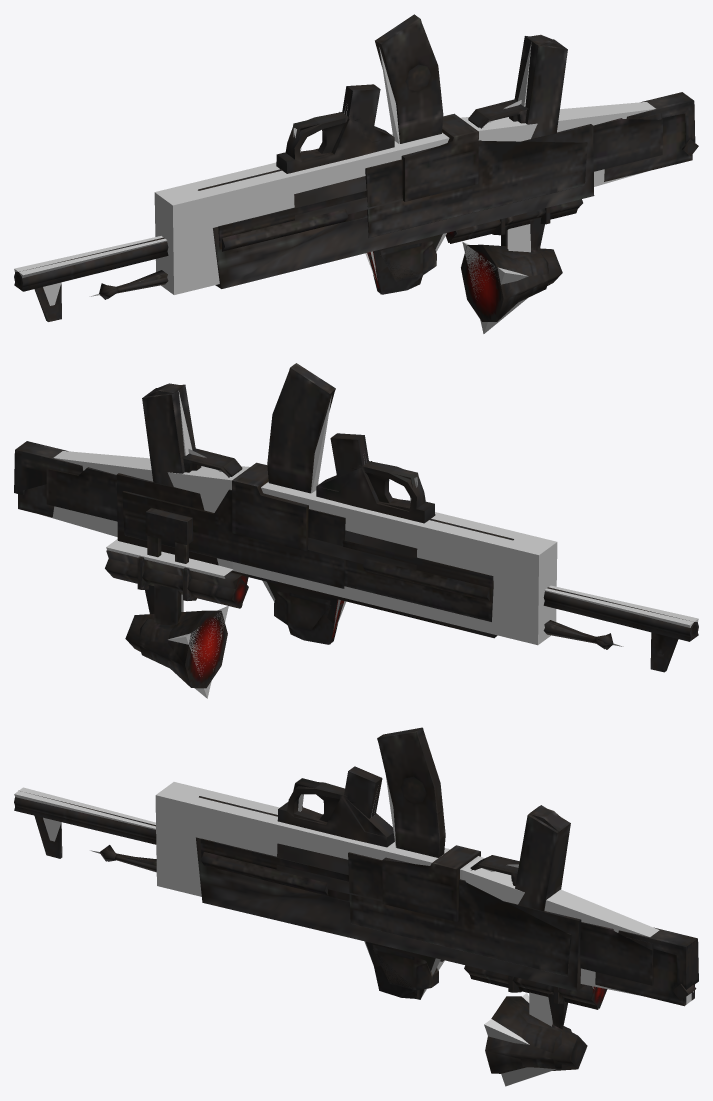
3 views of the same model, one above another, from view 1: azimuth 30°, elevation 25°; view 2: azimuth 150°, elevation 25°; view 3: azimuth 330°, elevation 25° (orthographic).
Parts seen in each view (by area): view 1: surface_001, surface_004, surface_002, surface_000, surface_003; view 2: surface_001, surface_002, surface_004, surface_000, surface_003; view 3: surface_001, surface_004, surface_002.
Boxes of the visible parts, x1,y1,x2,y2 form: surface_001: (14, 14, 698, 321); surface_004: (14, 14, 692, 299); surface_002: (14, 42, 655, 333); surface_000: (445, 199, 582, 321); surface_003: (447, 231, 498, 321); surface_001: (14, 363, 698, 688); surface_002: (40, 391, 698, 698); surface_004: (18, 363, 698, 664); surface_000: (105, 559, 248, 688); surface_003: (185, 575, 248, 687); surface_001: (14, 727, 698, 1073); surface_004: (14, 727, 694, 1070); surface_002: (14, 776, 693, 1086).
Bounding box in the file's own units: 127 × 61.87 × 14.63.
